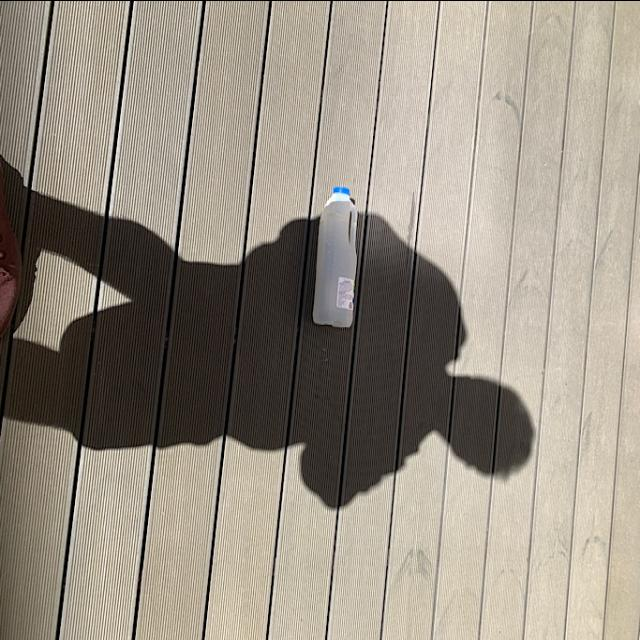HDPEM: (310, 179, 360, 335)
